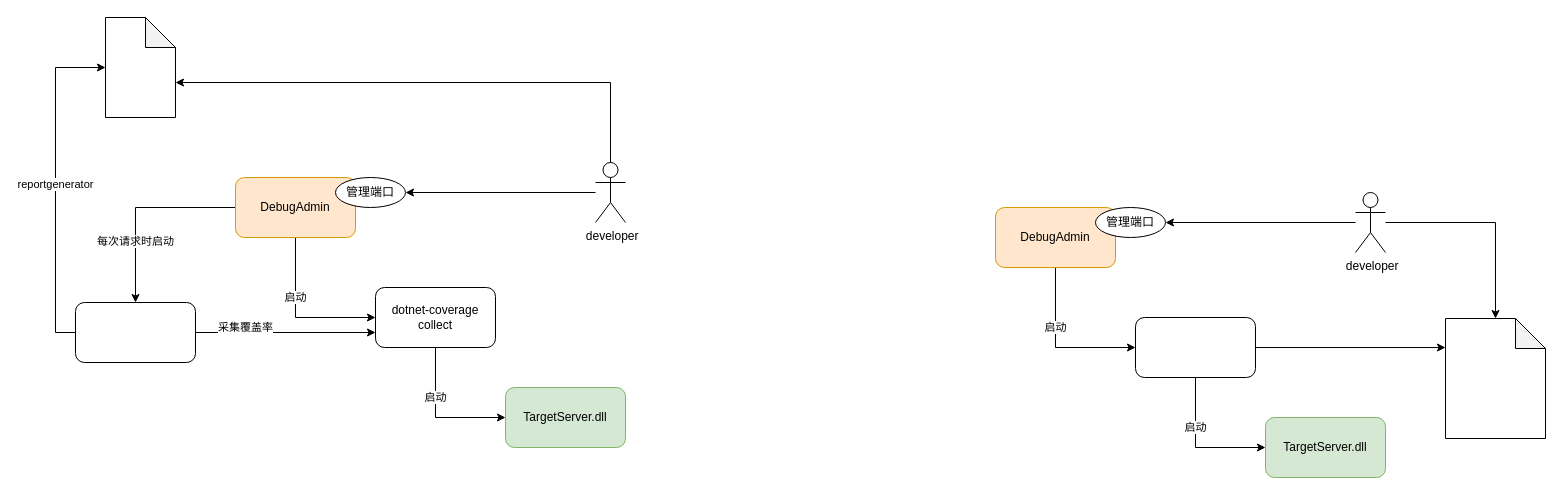
This 1563x495 diagram has some shape labels left out. Here are the shapes that lost their labels. From the top down, the centre of each, then its label:
At [140,67]: "覆盖率 html".
At [135,332]: "dotnet-coverage snapshot".
At [1195,347]: "gdb".
At [1495,378]: "* 堆栈信息 * 崩溃日志".
